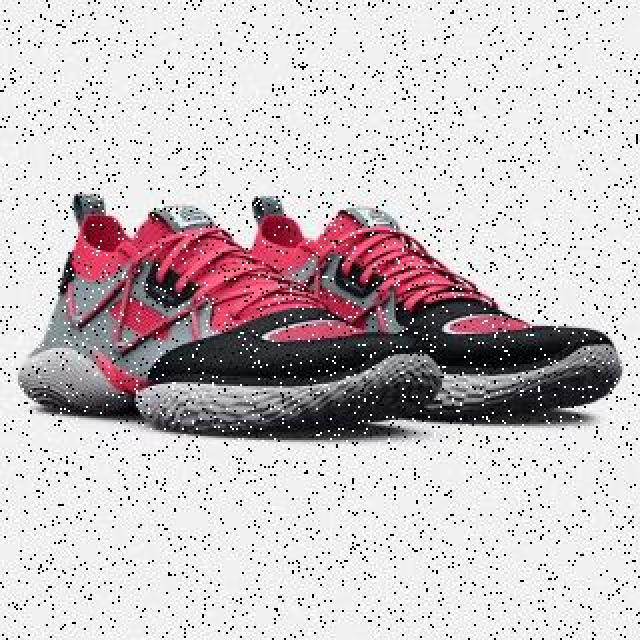shoe: (15, 195, 447, 429), (217, 195, 625, 421)
